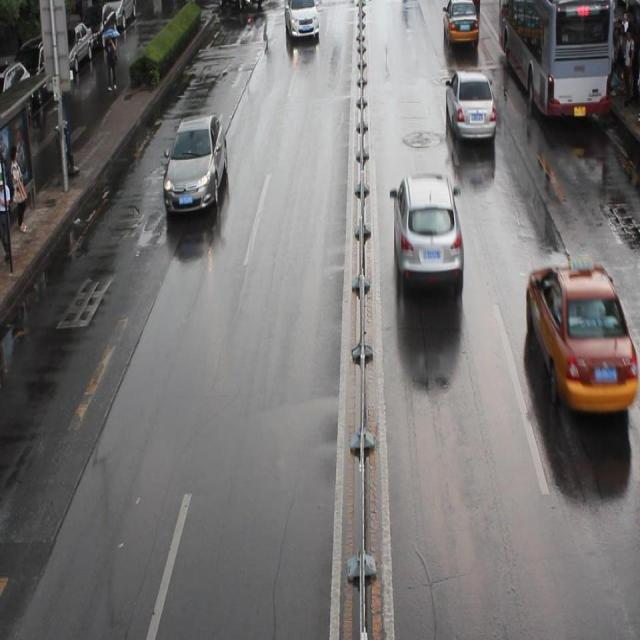car: (524, 259, 640, 410), (392, 173, 464, 289), (163, 114, 227, 214), (445, 71, 495, 140), (442, 1, 479, 44), (284, 1, 319, 38), (449, 1, 479, 10)
van: (497, 1, 612, 116)
